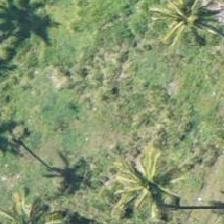coconut_tree: (103, 135, 193, 223), (0, 176, 73, 223)
